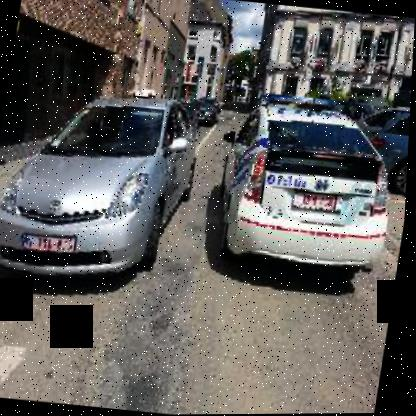emergency: (200, 90, 411, 290)
not_emergency: (0, 72, 207, 303)
